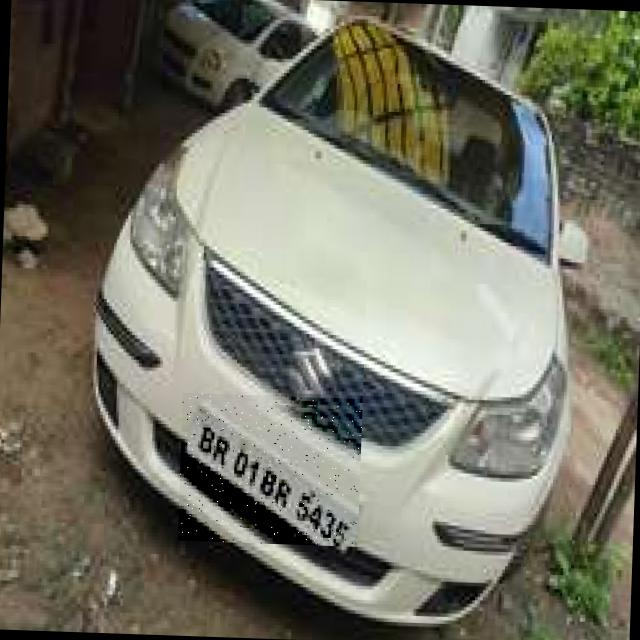Plate: (179, 394, 364, 548)
